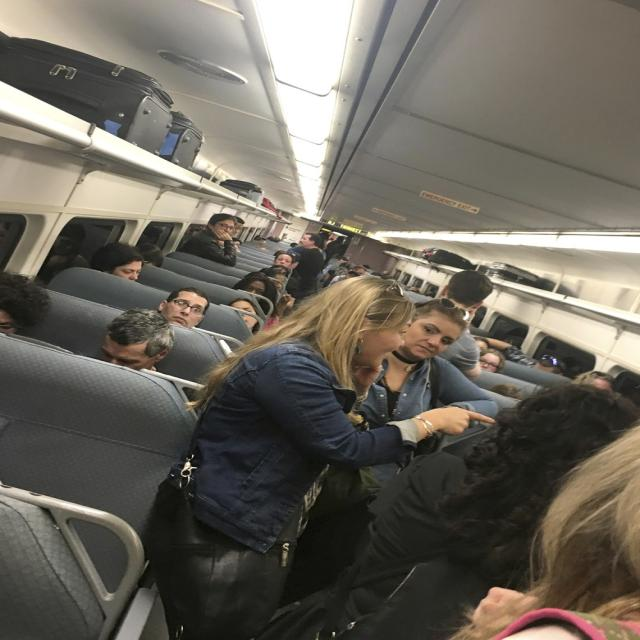body: (144, 273, 474, 639), (261, 380, 637, 640), (454, 419, 640, 638), (352, 295, 502, 435), (397, 268, 496, 381), (99, 308, 178, 372), (0, 268, 53, 334), (176, 212, 238, 268), (487, 337, 570, 377), (154, 286, 210, 329), (89, 240, 146, 282), (230, 270, 278, 318), (231, 273, 279, 319), (294, 232, 325, 295), (225, 296, 262, 335), (314, 256, 350, 286), (402, 276, 440, 300), (571, 370, 615, 390), (327, 265, 369, 285), (486, 382, 528, 402), (135, 242, 164, 268), (479, 348, 506, 373), (318, 235, 347, 258), (253, 234, 286, 254), (271, 250, 301, 270), (328, 270, 361, 286), (277, 291, 296, 316), (363, 262, 391, 278), (141, 223, 167, 240), (472, 335, 491, 353), (185, 223, 202, 243), (230, 215, 244, 237), (322, 268, 336, 280), (288, 240, 299, 248), (340, 262, 350, 268)
